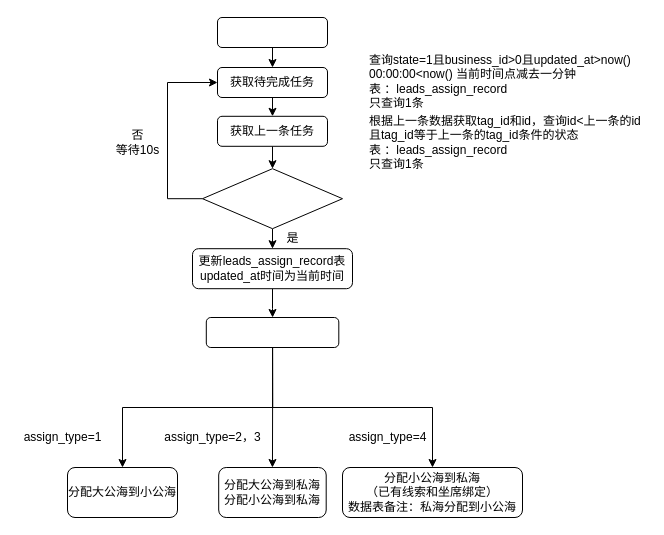
The diagram is 664 pixels wide and 535 high, and some of its shapes have lost their labels. Here are the shapes that lost their labels. From the top down, the box of each, then its label:
(216, 16, 328, 48): 线索分配
(202, 168, 342, 229): 上一条状态是否=2 （执行完成）
(205, 316, 339, 348): 返回线索分配任务结果
